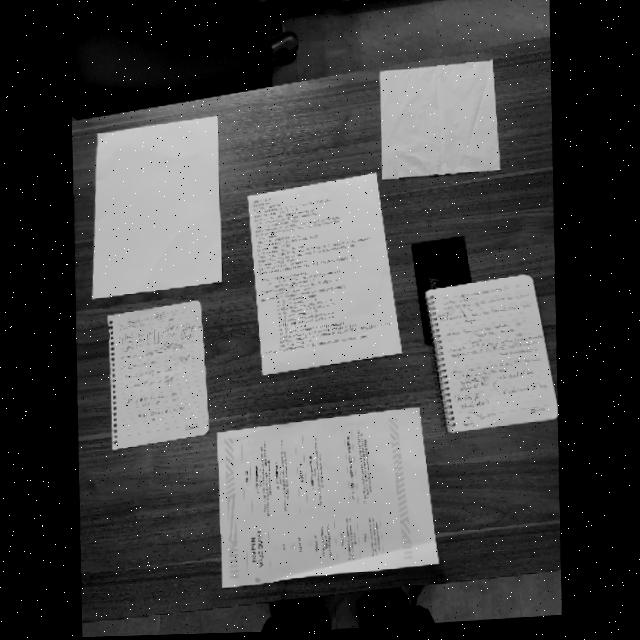document: (217, 407, 438, 587), (248, 173, 401, 374), (425, 275, 558, 432), (107, 301, 208, 449)
